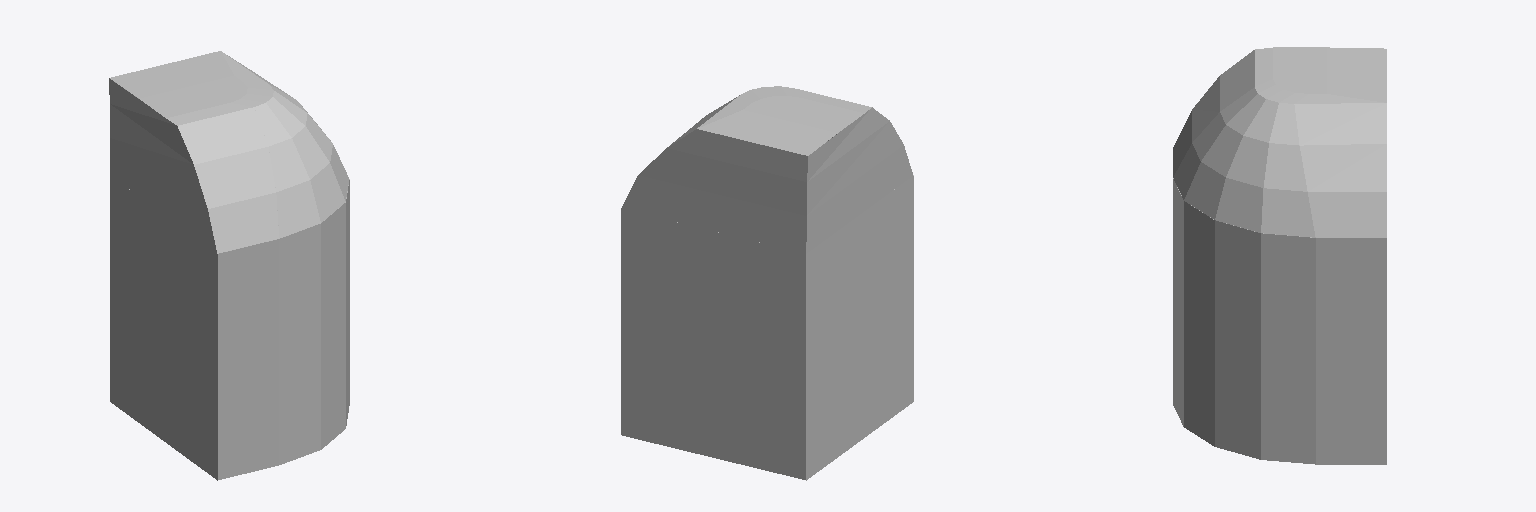
File: soyuzseat3.obj
3 renders of one model, left to right at view 1: azimuth 30°, elevation 25°; view 2: azimuth 150°, elevation 25°; view 3: azimuth 270°, elevation 25°, orthographic.
Parts seen in each view (by area): view 1: Cube1; view 2: Cube1; view 3: Cube1.
Part boxes in pixels (x1,y1,x2,y2): Cube1: (109, 51, 349, 480); Cube1: (621, 86, 913, 480); Cube1: (1173, 47, 1386, 464).
Size of the model in its own units: 3.02 by 5.03 by 3.